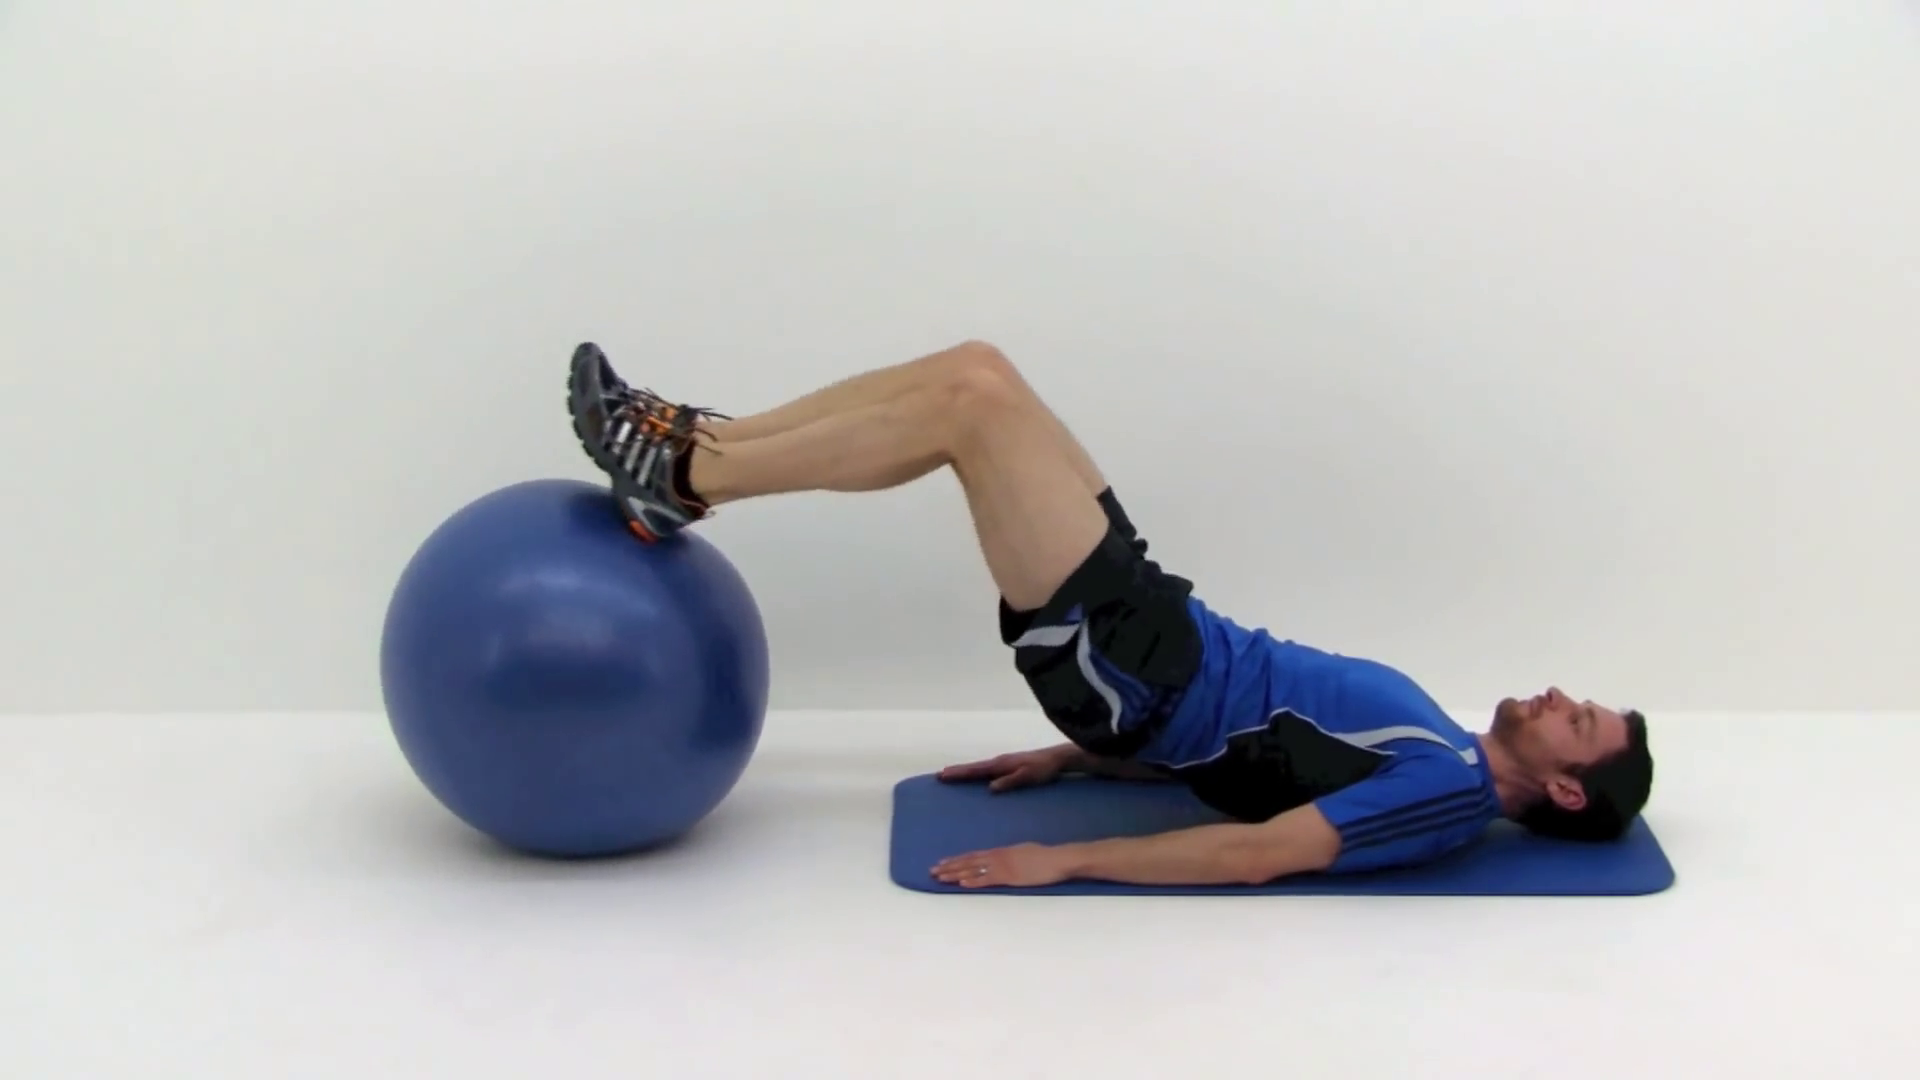yogaball: (357, 469, 795, 878)
